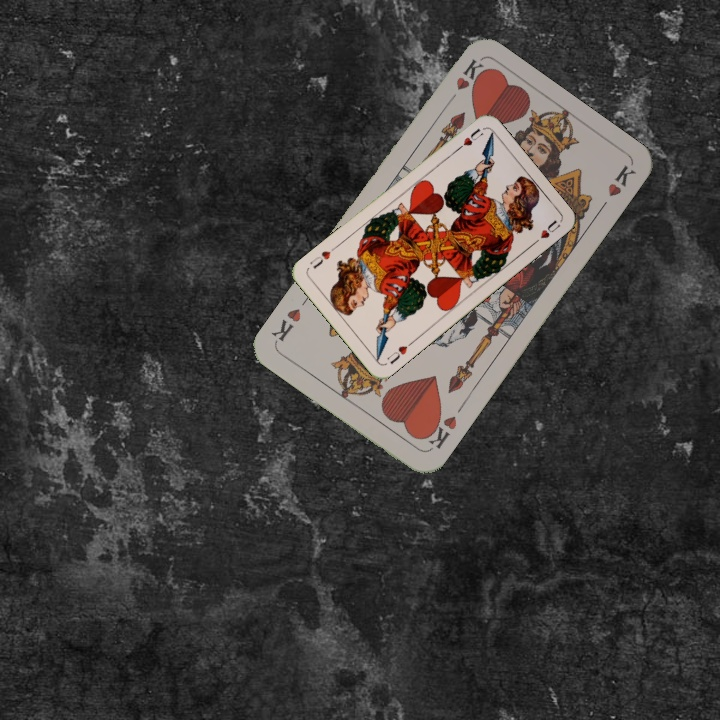HK: (441, 55, 486, 107), (419, 409, 460, 453)
HU: (451, 124, 485, 154), (383, 337, 416, 367)
